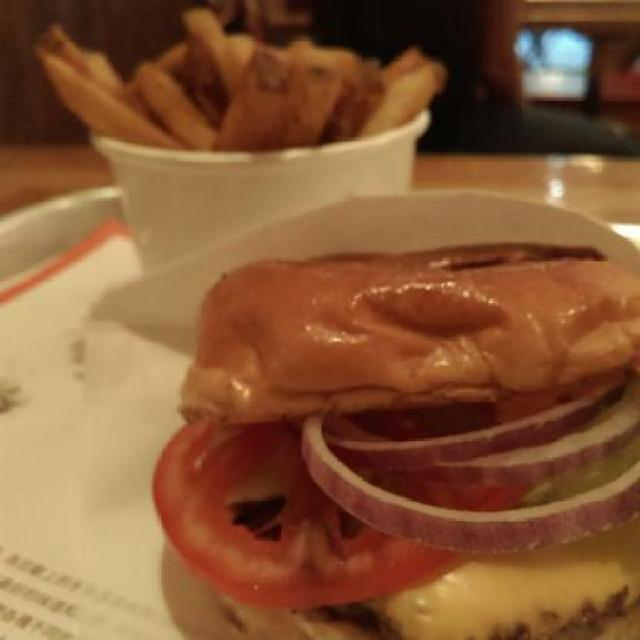Hamburger: (146, 238, 640, 640)
